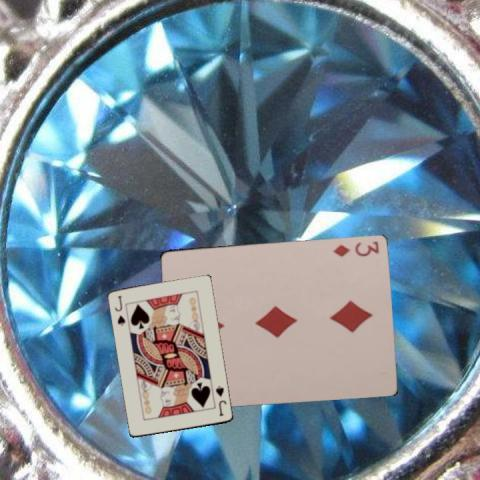3d: (330, 238, 381, 257)
Js: (213, 383, 228, 417), (112, 293, 127, 327)
